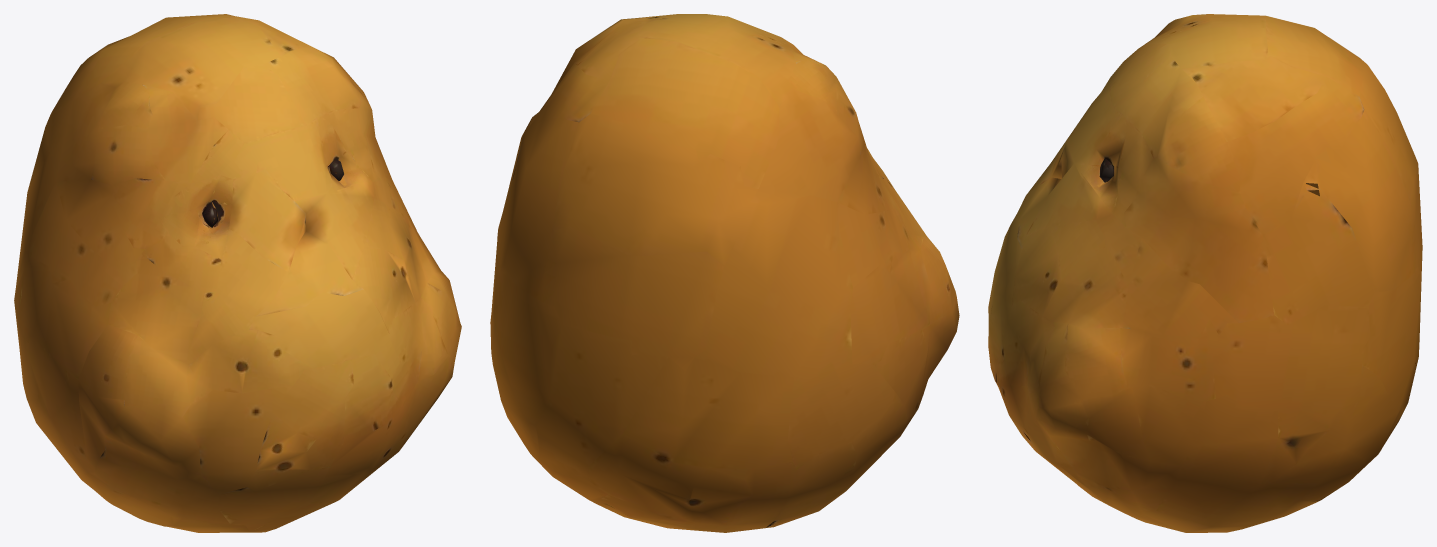
Rendered from potato.glb.
3 renders of one model, left to right at view 1: azimuth 30°, elevation 25°; view 2: azimuth 150°, elevation 25°; view 3: azimuth 270°, elevation 25°, orthographic. The views are drawn at different scales.
Size of the model in its own units: 0.7691 by 0.9429 by 0.7802.
Materials: 1 (1 with a texture image).
